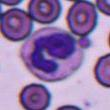N: (19, 26, 80, 81)
